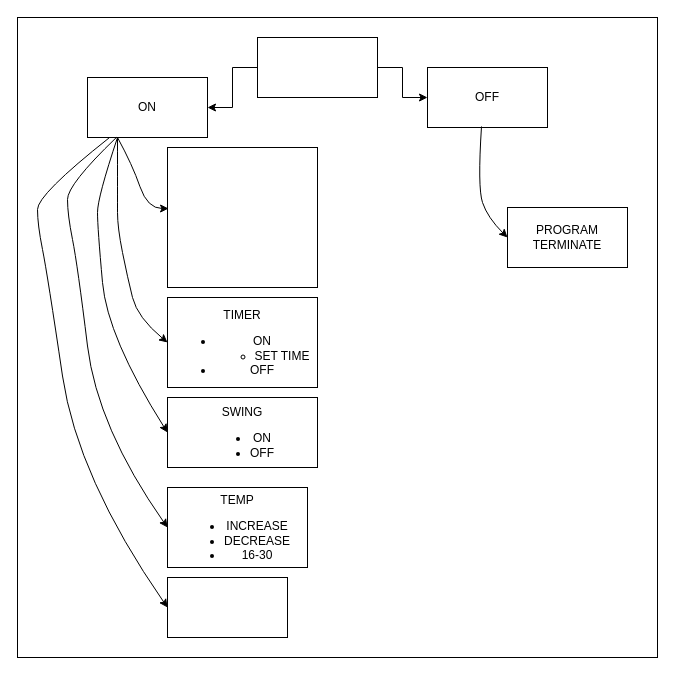
The diagram is 675 pixels wide and 675 high, and some of its shapes have lost their labels. The box of each missing label's shape, as (x1, y1, x2, y2) in pixels:
AC REMOTE: (256, 36, 378, 98)
MODE AUTO COOL DRY HEAT FAN SPEED 1,2,3: (166, 146, 318, 288)
REMOTE CHILD ON OFF: (166, 576, 288, 638)
